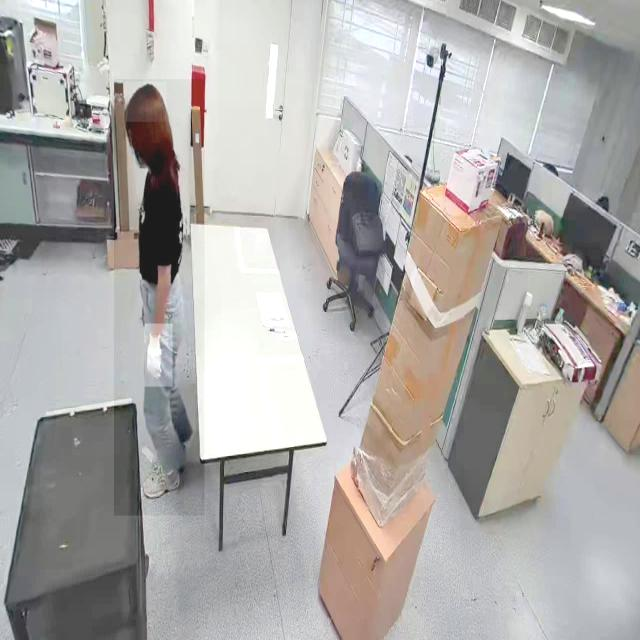hand_glove: (145, 323, 173, 388)
head_nohelmet: (123, 81, 167, 122)
person: (114, 79, 205, 517)
shoes: (138, 458, 182, 501)
